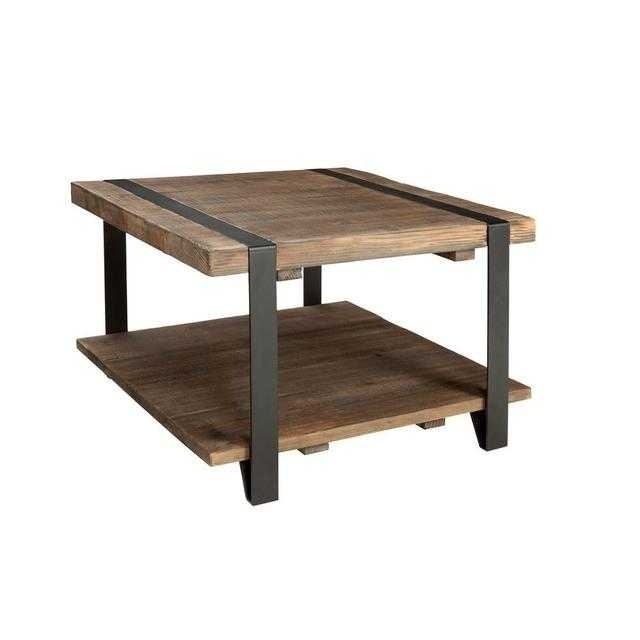obstacle: (71, 168, 534, 503)
